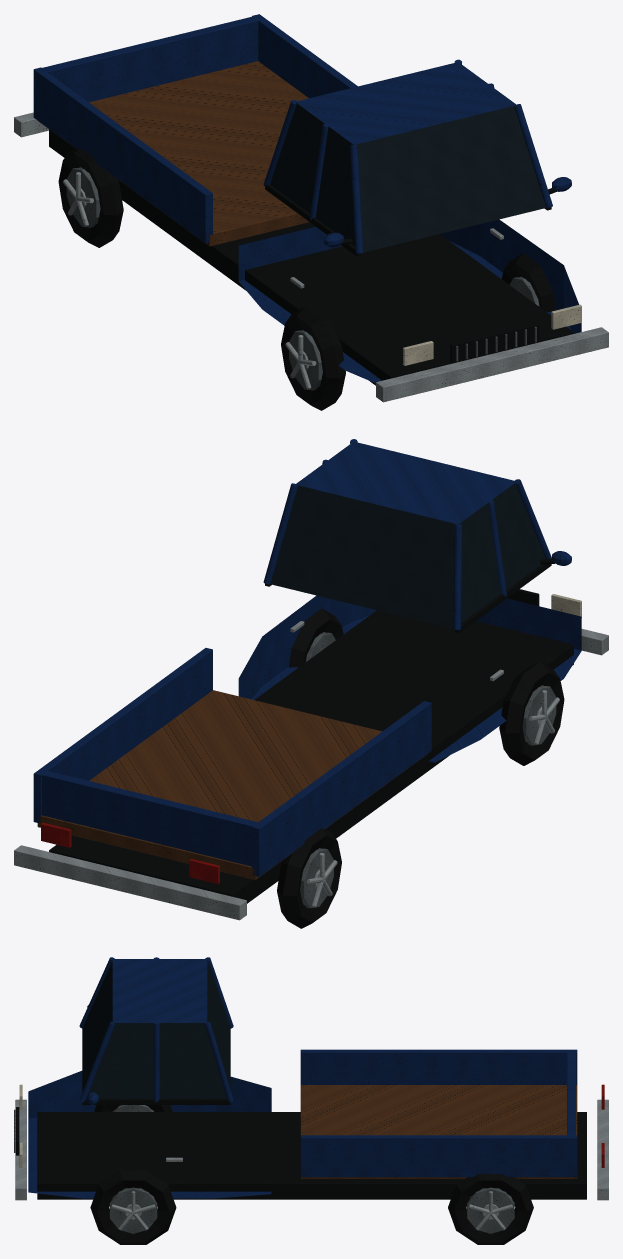
The model's file is PROP-14432A517177_lod1.glb.
The picture shows the model from 3 angles, top to bottom: view 1: azimuth 30°, elevation 25°; view 2: azimuth 150°, elevation 25°; view 3: azimuth 270°, elevation 25°; orthographic projection. The views are drawn at different scales.
Visible parts, largest first — view 1: chassis.018, sloped_cabin_glazing.018, bed_deck.002, bed_sides.002, roof_panel.016, tailgate.002, tire.018, shaped_body_panels.018, bumper.018, window_pillars.018, rim.018, radiator_grille.018 (+3 smaller); view 2: chassis.018, sloped_cabin_glazing.018, bed_deck.002, bed_sides.002, tailgate.002, roof_panel.016, shaped_body_panels.018, tire.018, bumper.018, window_pillars.018, rim.018, lamp_lenses.037 (+2 smaller); view 3: chassis.018, bed_sides.002, bed_deck.002, sloped_cabin_glazing.018, tire.018, roof_panel.016, shaped_body_panels.018, rim.018, window_pillars.018, bumper.018, rim_spokes.018, window_belt.018 (+1 smaller).
Boxes of the visible parts, <box> form: chassis.018: <box>49,129,573,385</box>; sloped_cabin_glazing.018: <box>270,102,545,252</box>; bed_deck.002: <box>38,61,309,246</box>; bed_sides.002: <box>33,14,357,243</box>; roof_panel.016: <box>295,62,516,144</box>; tailgate.002: <box>39,15,259,102</box>; tire.018: <box>58,147,556,410</box>; shaped_body_panels.018: <box>238,219,581,383</box>; bumper.018: <box>14,112,608,402</box>; window_pillars.018: <box>263,59,552,253</box>; rim.018: <box>66,167,539,390</box>; radiator_grille.018: <box>450,323,539,363</box>; chassis.018: <box>49,610,573,903</box>; sloped_cabin_glazing.018: <box>270,482,545,628</box>; bed_deck.002: <box>37,690,427,879</box>; bed_sides.002: <box>33,648,431,876</box>; tailgate.002: <box>42,770,260,866</box>; roof_panel.016: <box>295,441,516,524</box>; shaped_body_panels.018: <box>238,595,581,762</box>; tire.018: <box>277,608,564,928</box>; bumper.018: <box>14,629,608,920</box>; window_pillars.018: <box>263,439,551,630</box>; rim.018: <box>300,632,556,908</box>; lamp_lenses.037: <box>41,822,219,883</box>; chassis.018: <box>37,1112,586,1199</box>; bed_sides.002: <box>300,1049,577,1177</box>; bed_deck.002: <box>300,1085,577,1178</box>; sloped_cabin_glazing.018: <box>82,960,230,1098</box>; tire.018: <box>90,1105,533,1244</box>; roof_panel.016: <box>112,959,207,1022</box>; shaped_body_panels.018: <box>28,1071,271,1198</box>; rim.018: <box>109,1105,514,1233</box>; window_pillars.018: <box>79,957,233,1102</box>; bumper.018: <box>15,1099,608,1200</box>; rim_spokes.018: <box>111,1191,513,1230</box>; window_belt.018: <box>82,1099,230,1104</box>.
Bounding box in the file's own units: 2.56 × 2.6 × 6.61.
Materials: 9 (9 with a texture image).
